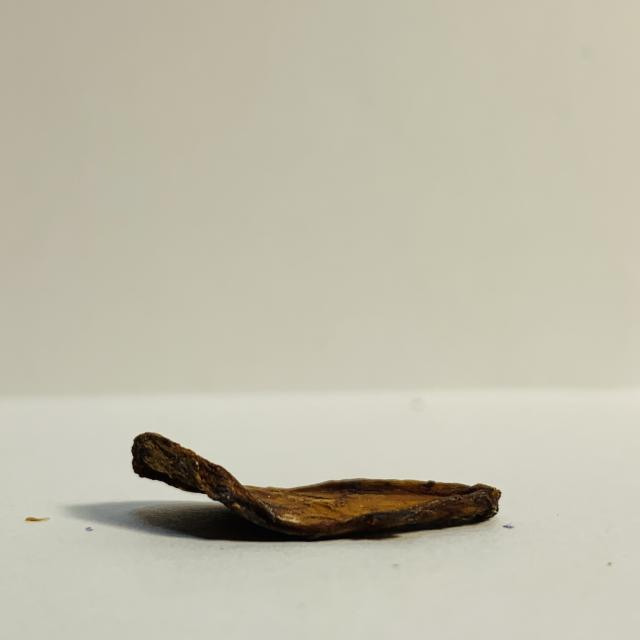Flat_cocoabeans: (59, 388, 528, 577)
